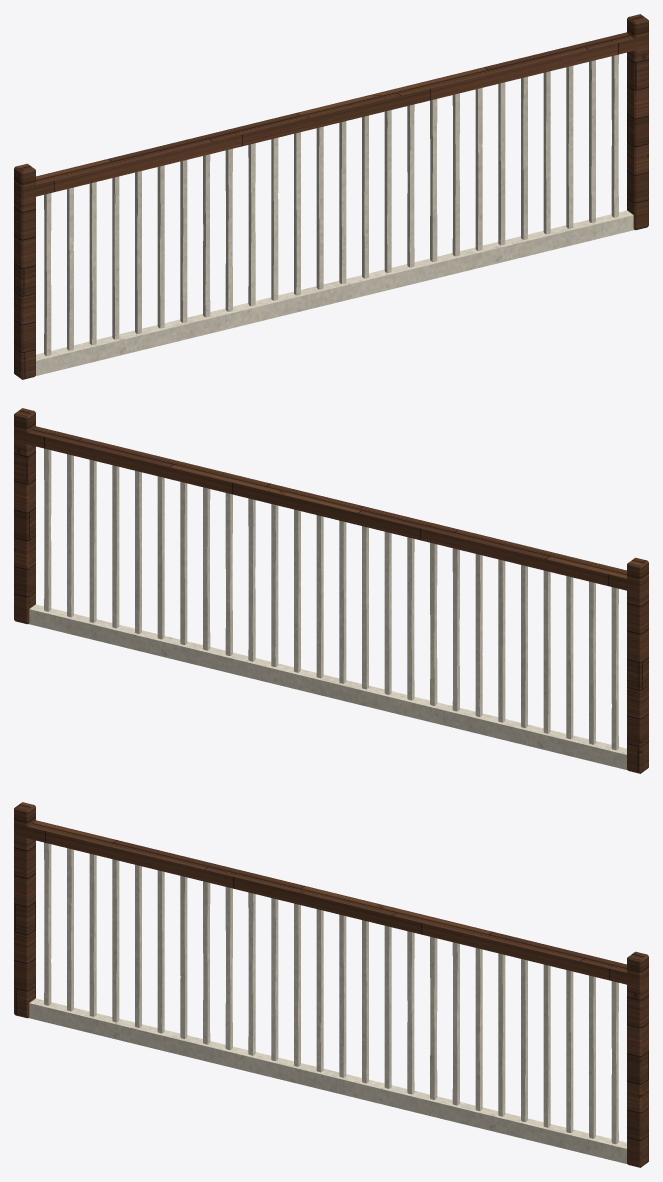
Rendered from rail_326.glb.
3 views of the same model, one above another, from view 1: azimuth 30°, elevation 25°; view 2: azimuth 150°, elevation 25°; view 3: azimuth 330°, elevation 25° (orthographic).
Visible parts, largest first — view 1: rail_326_trim, rail_326_wood; view 2: rail_326_trim, rail_326_wood; view 3: rail_326_trim, rail_326_wood.
Part boxes in pixels (x1,y1,x2,y2): rail_326_trim: [35, 54, 634, 376]; rail_326_wood: [14, 14, 648, 379]; rail_326_trim: [28, 448, 627, 770]; rail_326_wood: [14, 408, 648, 773]; rail_326_trim: [28, 842, 627, 1164]; rail_326_wood: [14, 802, 648, 1167].
Bounding box in the file's own units: 3.34 × 1.06 × 0.08.
2 materials, 2 textured.
